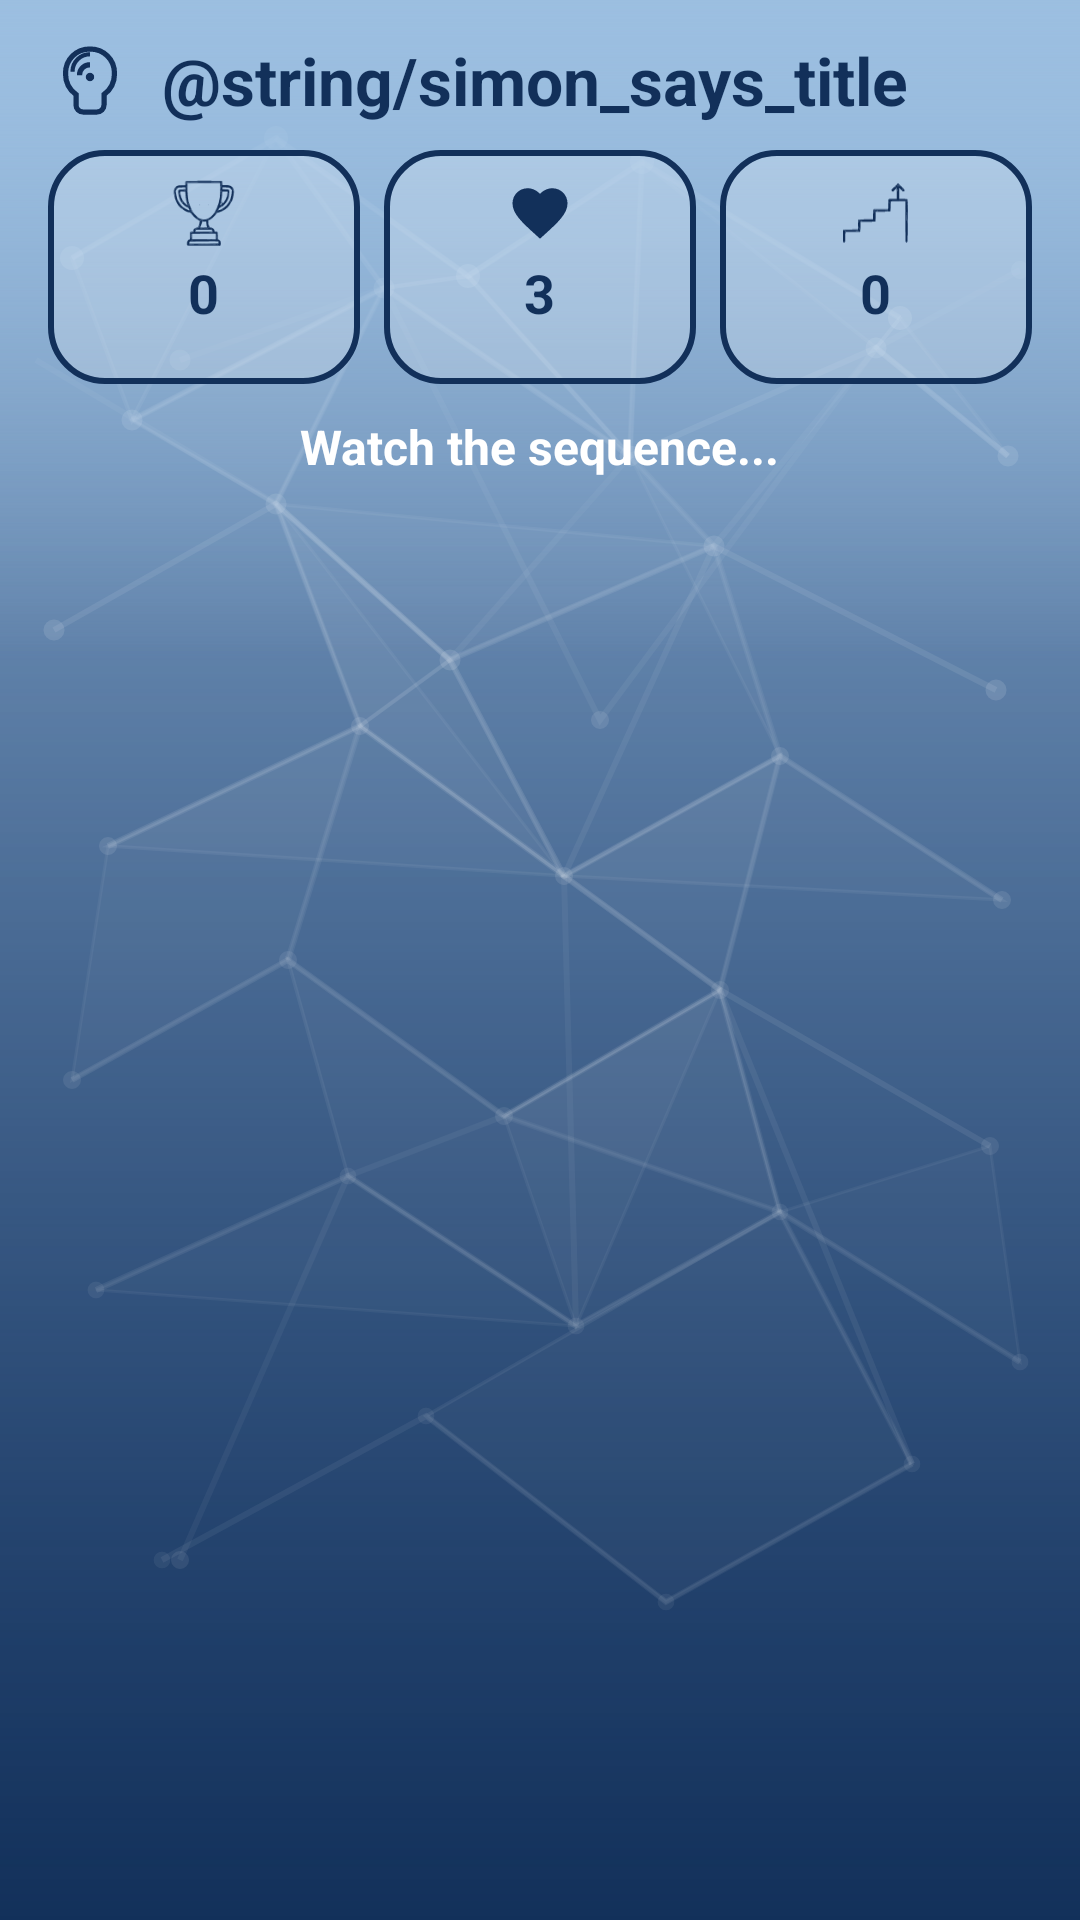

Point at icon controls on the screen. Image size 1080×1920, points as (x=x, y=y).
Lives: (x=540, y=213)
Round: (x=875, y=213)
Score: (x=203, y=213)
